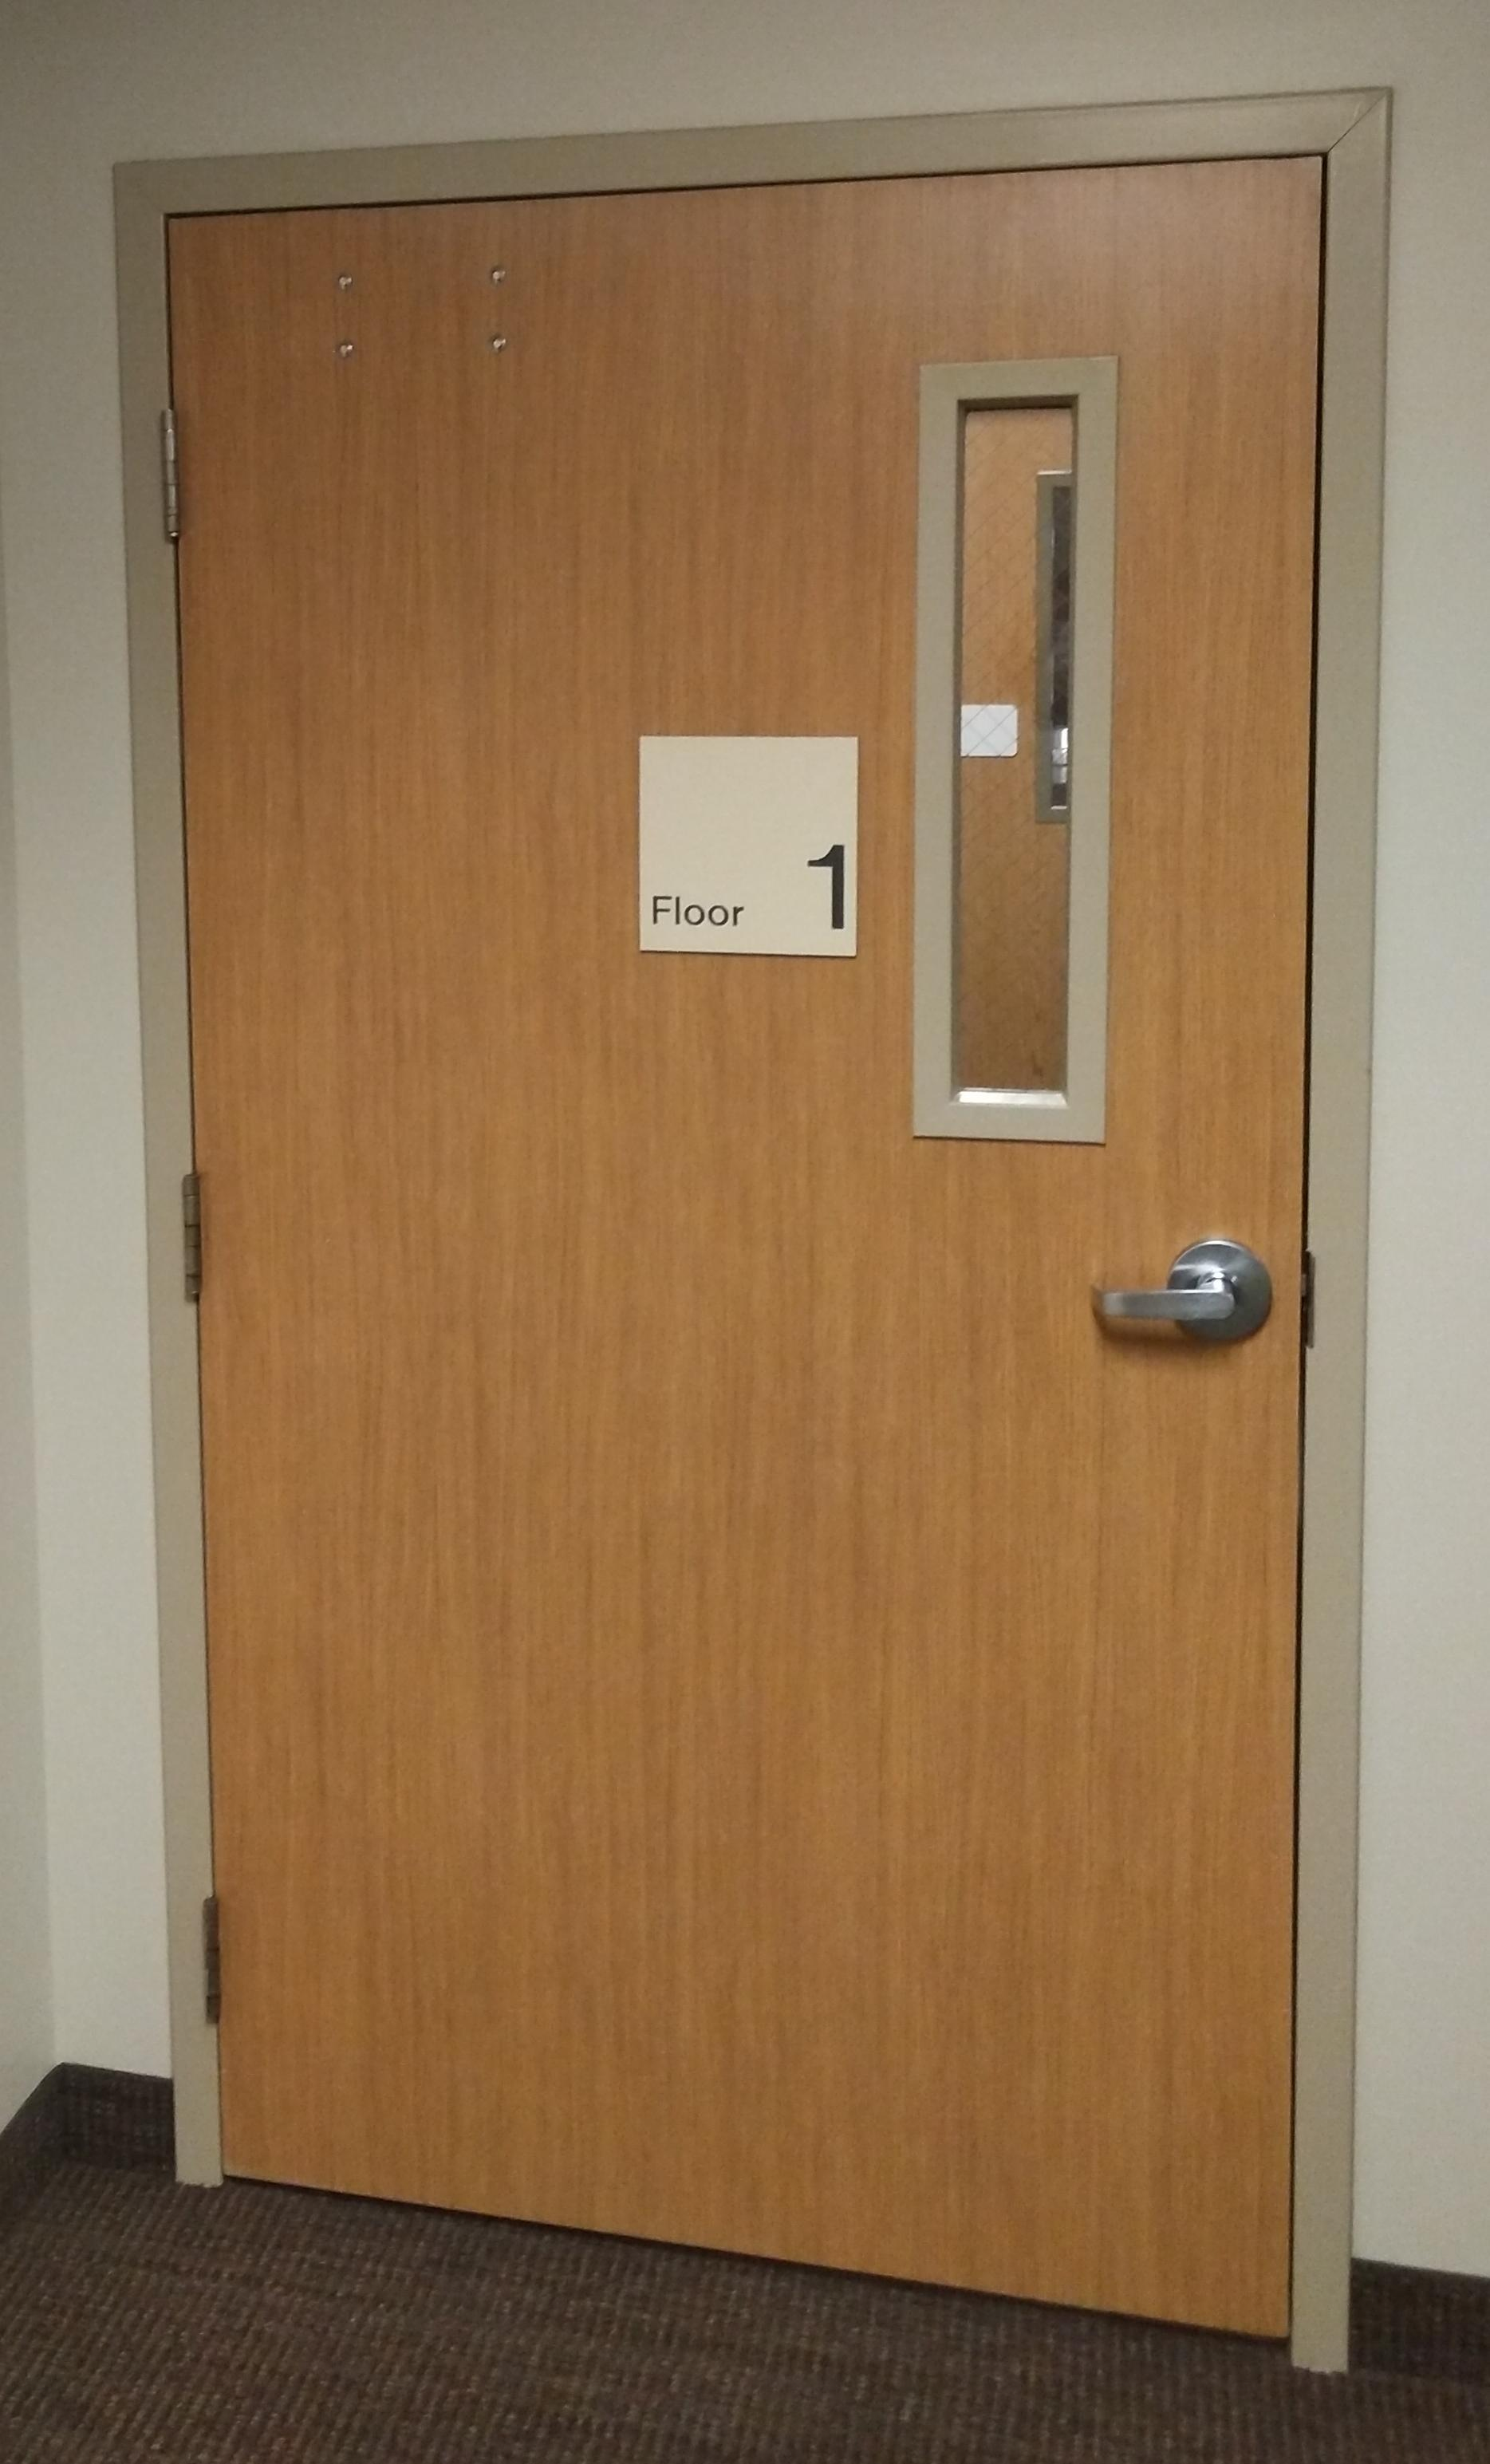door: (158, 136, 1353, 2306)
